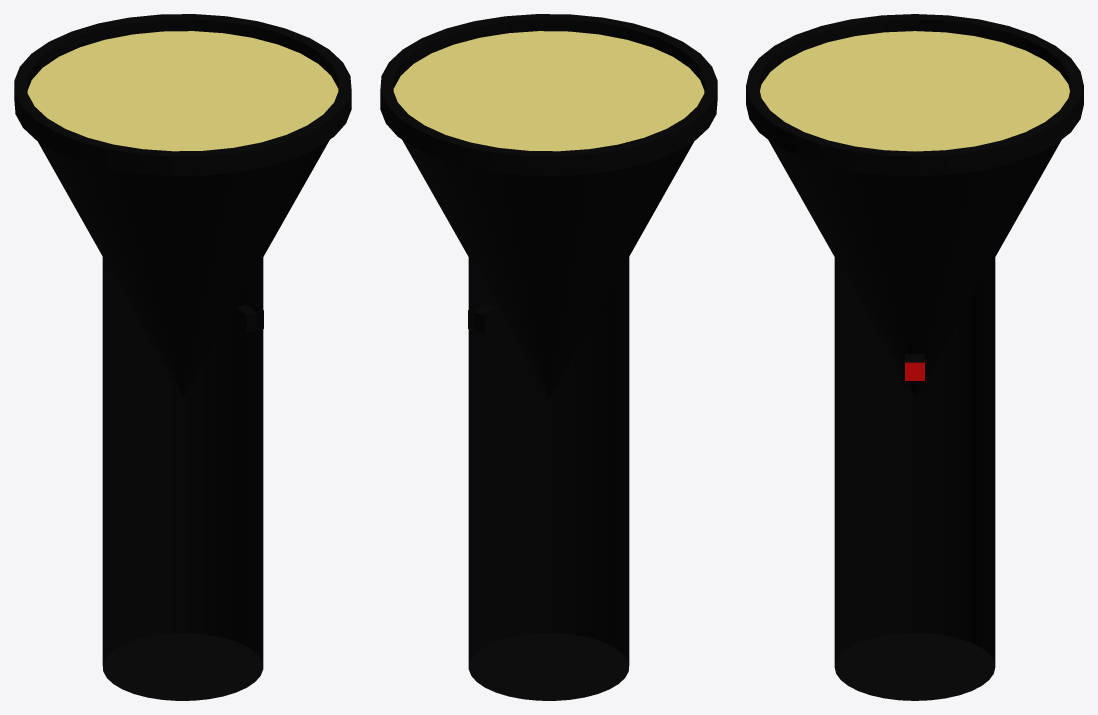
File: flashlight.fbx
3 views of the same model, side by side, from view 1: azimuth 30°, elevation 25°; view 2: azimuth 150°, elevation 25°; view 3: azimuth 270°, elevation 25° (orthographic).
Visible parts, largest first — view 1: Cylinder, Cylinder.001, Cone, Cube; view 2: Cylinder, Cylinder.001, Cone, Cube; view 3: Cylinder, Cylinder.001, Cone, Cube.
Boxes of the visible parts, <box> form: Cylinder: <box>102,257,263,700</box>; Cylinder.001: <box>14,14,351,175</box>; Cone: <box>38,140,329,397</box>; Cube: <box>236,305,263,333</box>; Cylinder: <box>468,257,629,700</box>; Cylinder.001: <box>380,14,717,175</box>; Cone: <box>402,140,693,397</box>; Cube: <box>468,305,495,333</box>; Cylinder: <box>834,257,995,700</box>; Cylinder.001: <box>746,14,1083,176</box>; Cone: <box>768,140,1061,398</box>; Cube: <box>905,354,924,380</box>.
Size of the model in its own units: 157 by 298 by 157.
